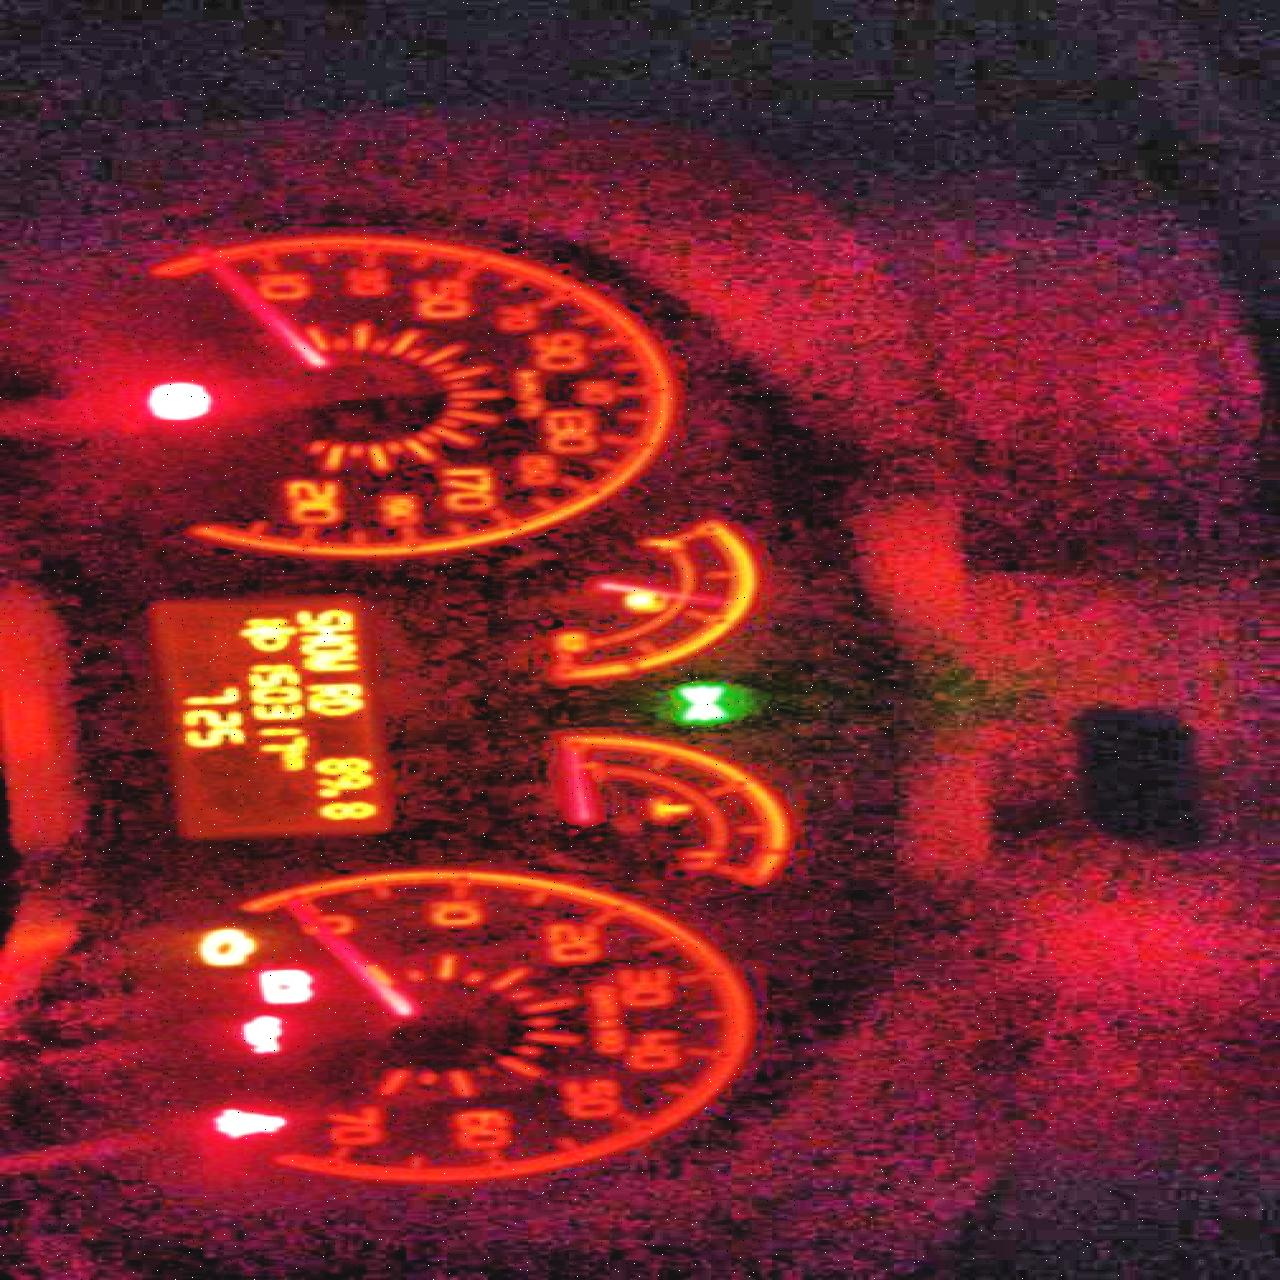-: (309, 788, 343, 798)
0: (244, 685, 302, 704)
1: (251, 726, 305, 735), (244, 662, 294, 672), (237, 617, 290, 625)
2: (181, 709, 241, 727)
3: (246, 704, 305, 720)
5: (181, 727, 244, 748), (244, 670, 300, 685)
7: (178, 685, 241, 704), (251, 736, 309, 750)
8: (318, 798, 376, 822), (309, 756, 372, 774)
9: (309, 774, 373, 788)
X: (294, 624, 359, 641), (300, 654, 359, 672), (305, 699, 366, 715), (292, 608, 355, 624), (305, 682, 363, 699), (297, 641, 358, 654), (277, 760, 305, 770), (277, 750, 307, 760)
odometer: (135, 590, 407, 844)
